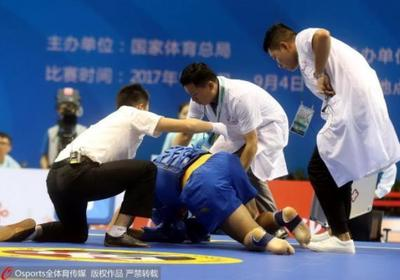fall: (134, 137, 315, 255)
